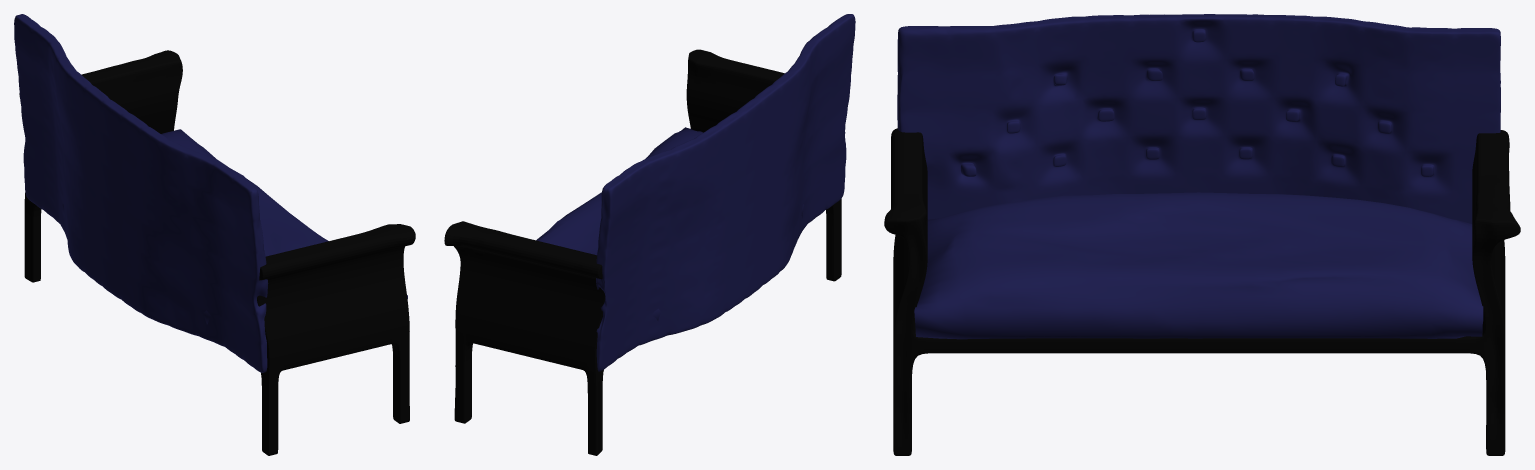
The model's file is Couch.fbx.
The picture shows the model from 3 angles, left to right: view 1: azimuth 30°, elevation 25°; view 2: azimuth 150°, elevation 25°; view 3: azimuth 270°, elevation 25°; orthographic projection. The views are drawn at different scales.
Parts seen in each view (by area): view 1: Cube, Base, Cushion; view 2: Cube, Base, Cushion; view 3: Cube, Cushion, Base.
Part boxes in pixels (<box>): Cube: <box>14,14,268,372</box>; Base: <box>19,50,415,455</box>; Cushion: <box>62,129,407,324</box>; Cube: <box>596,14,855,371</box>; Base: <box>444,49,841,455</box>; Cushion: <box>536,127,804,320</box>; Cube: <box>897,14,1500,223</box>; Cushion: <box>914,192,1483,339</box>; Base: <box>884,128,1520,455</box>.
Size of the model in its own units: 482 by 667 by 1145.
